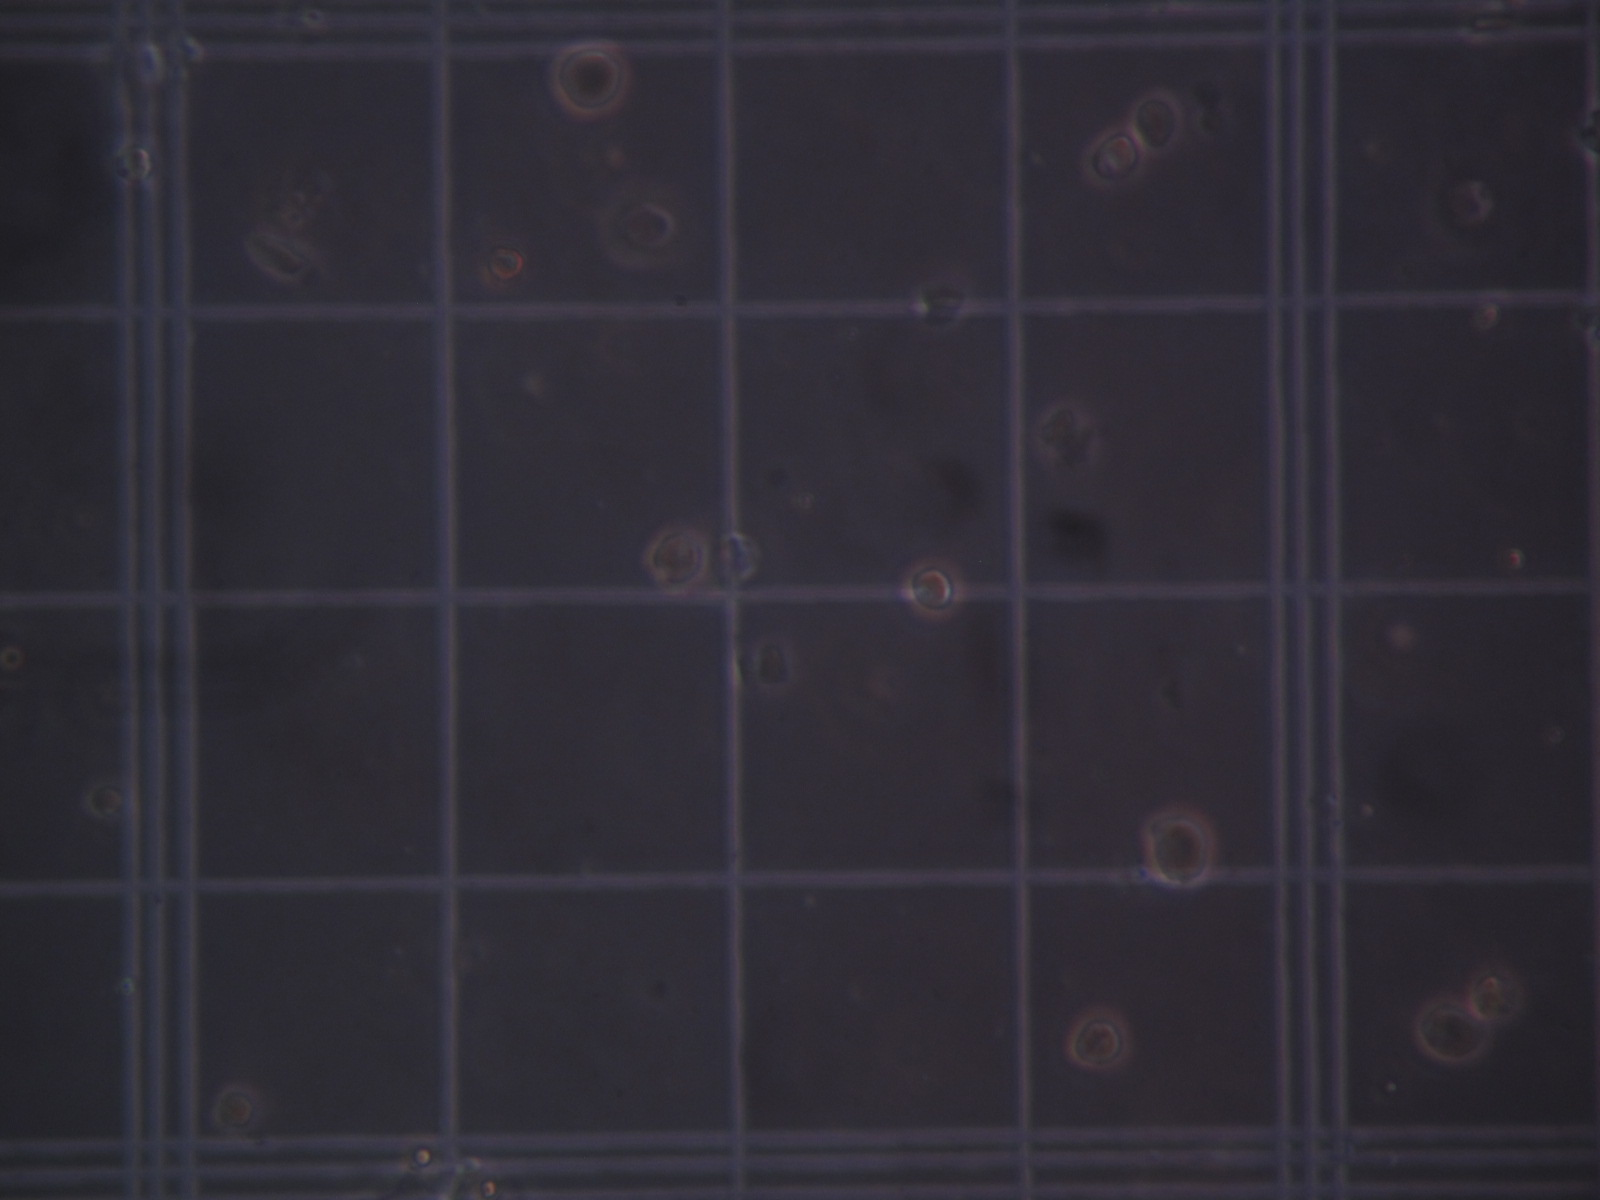hemo: (551, 38, 631, 116), (602, 190, 679, 266), (1146, 811, 1214, 891), (1416, 997, 1494, 1066), (1123, 84, 1188, 158), (644, 524, 711, 594), (1081, 126, 1150, 189), (900, 556, 968, 619), (1067, 1007, 1134, 1069), (1469, 966, 1519, 1024), (476, 242, 528, 292), (718, 527, 762, 584), (110, 142, 160, 187), (210, 1082, 256, 1129)
